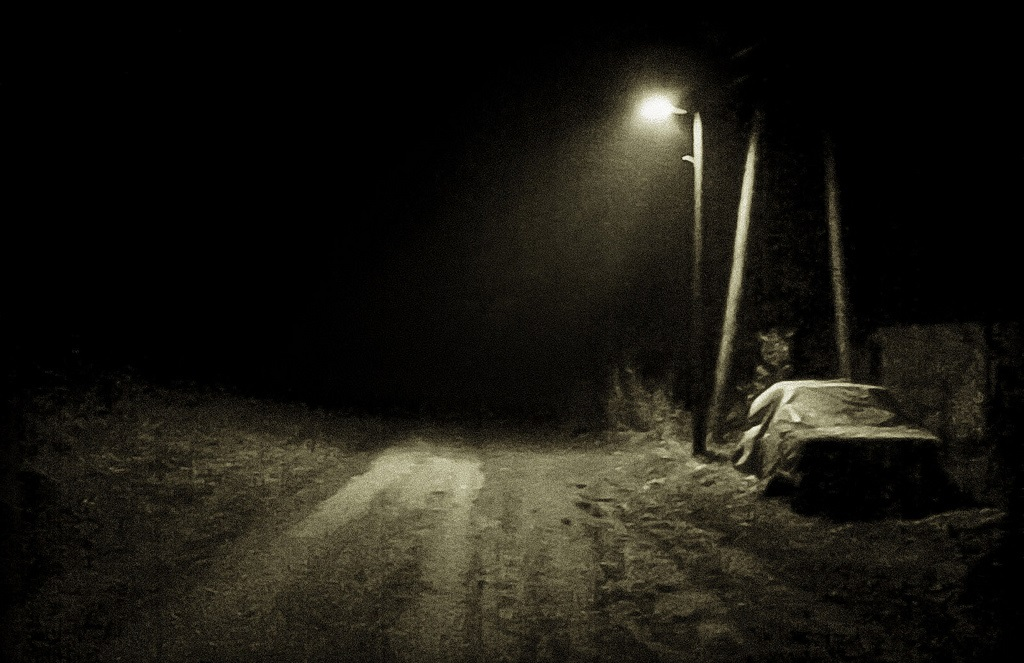car: (728, 374, 950, 513)
